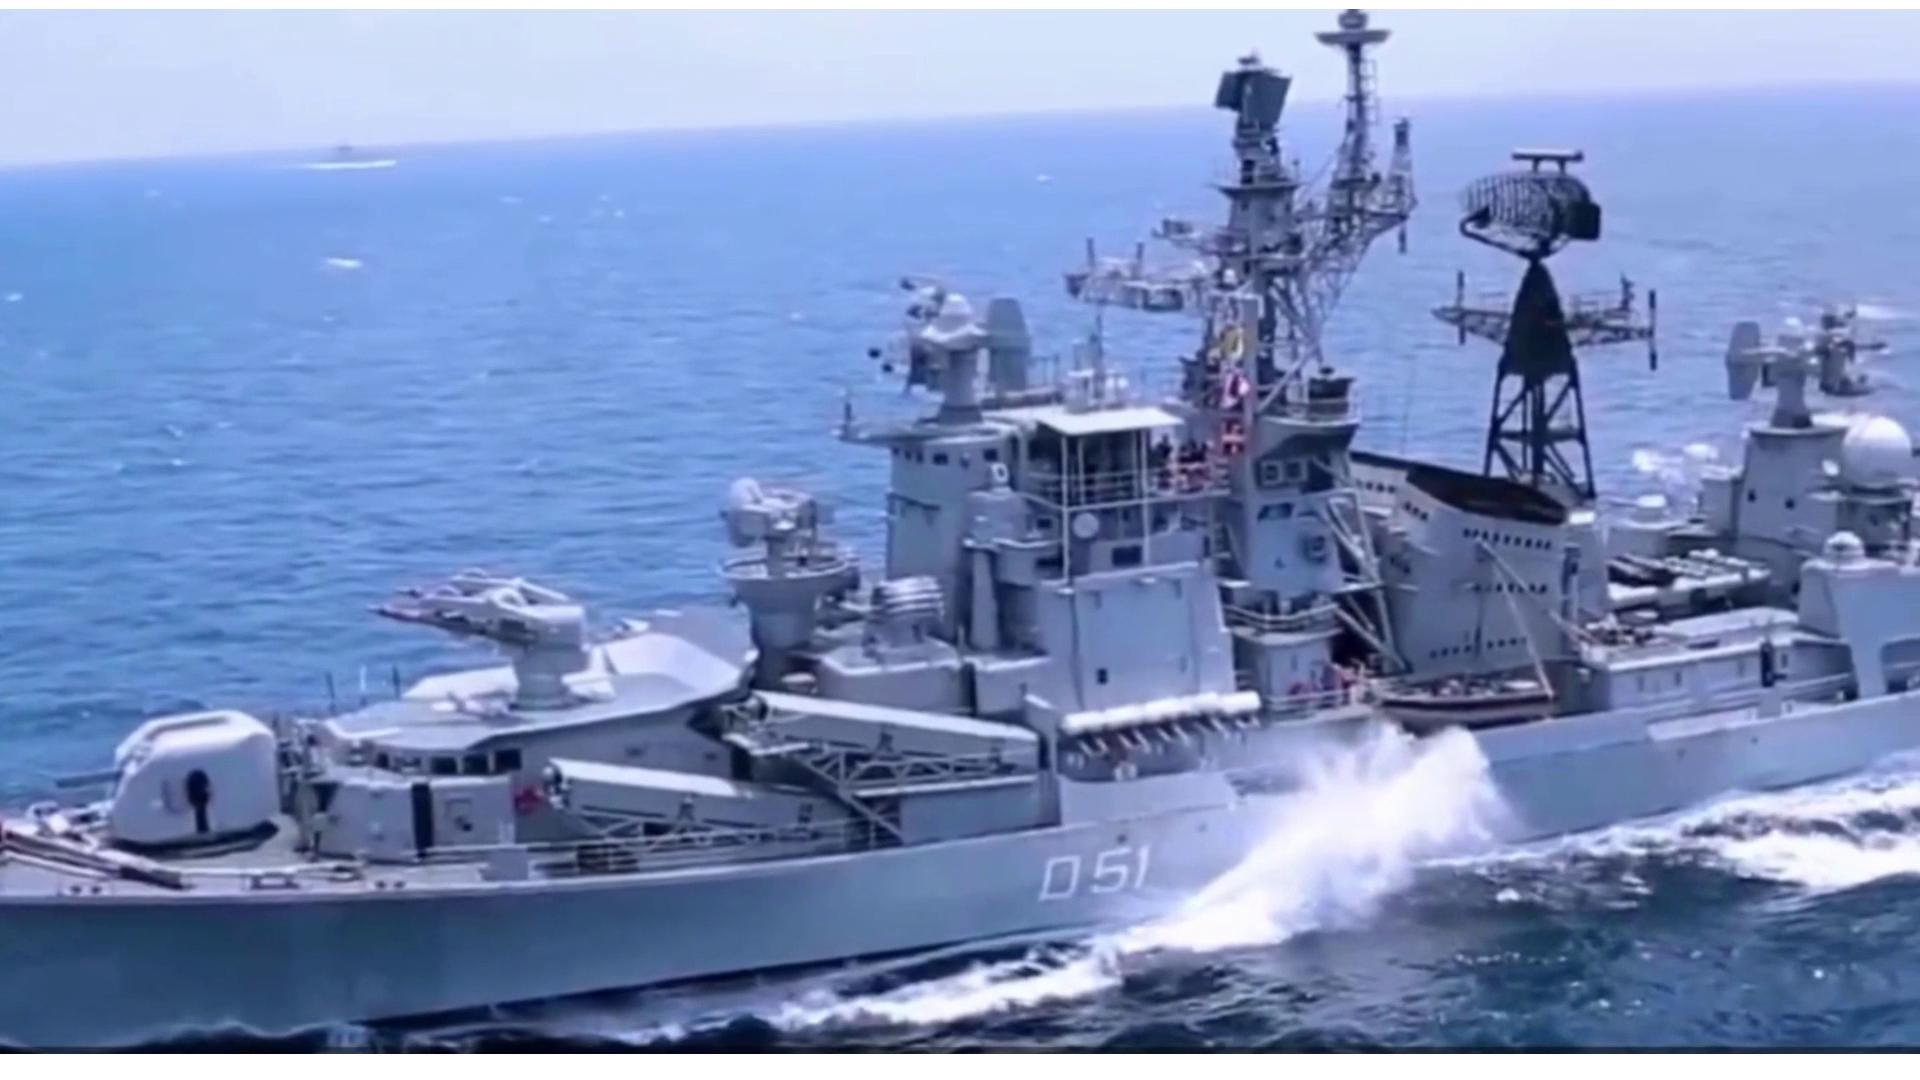OCR: (1010, 825, 1166, 928)
